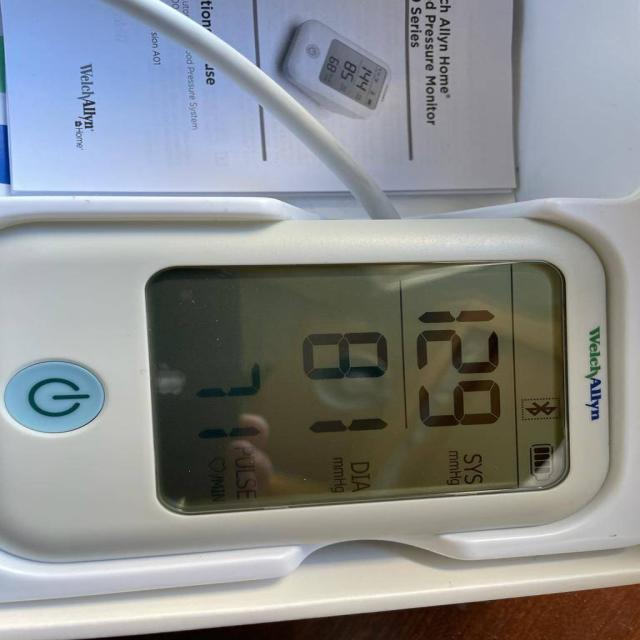bp: (0, 189, 639, 639)
